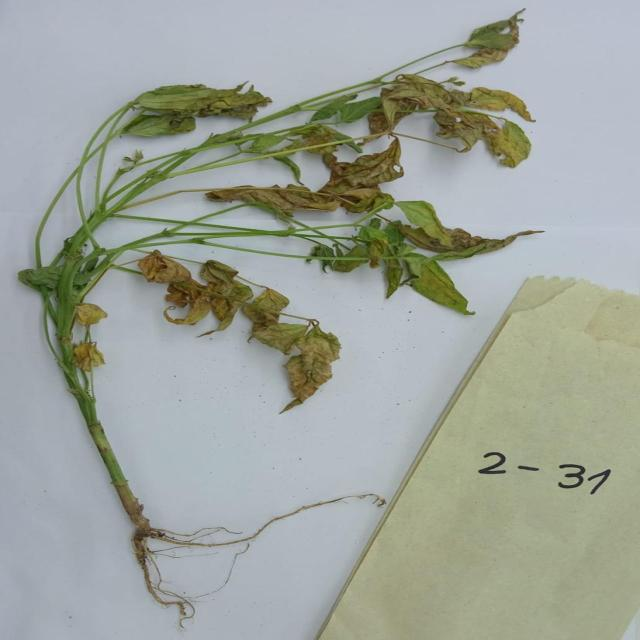Root: (164, 492, 390, 554), (112, 484, 199, 631)
Stem: (76, 101, 130, 242), (111, 224, 322, 259), (25, 158, 92, 266), (99, 191, 238, 239), (40, 294, 80, 436), (124, 138, 228, 188), (272, 72, 331, 134), (319, 75, 412, 104), (100, 445, 136, 488), (94, 403, 110, 479)
healty_leaves: (387, 257, 479, 321), (228, 128, 306, 171), (349, 216, 402, 279), (11, 260, 103, 291), (308, 240, 373, 276), (319, 97, 374, 123)
rooten_leaf: (242, 289, 346, 416), (379, 73, 537, 127), (396, 202, 548, 253), (119, 83, 260, 136), (430, 101, 543, 163), (321, 137, 412, 208), (157, 281, 248, 340), (204, 182, 346, 216), (452, 17, 524, 69), (73, 305, 123, 372), (192, 256, 255, 302), (137, 249, 197, 287), (362, 104, 408, 140)
